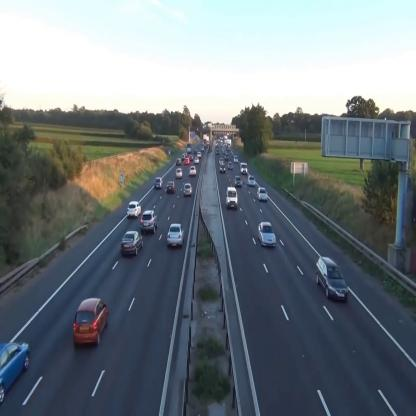car: (1, 341, 30, 405), (74, 297, 109, 347), (316, 256, 348, 303), (120, 230, 143, 256), (258, 221, 277, 249), (140, 210, 159, 234), (168, 223, 184, 249), (226, 186, 238, 210), (127, 201, 142, 218), (257, 186, 268, 202), (183, 183, 193, 197), (166, 181, 176, 193), (154, 178, 163, 190), (240, 162, 249, 174), (248, 174, 256, 187), (176, 168, 184, 180), (189, 166, 197, 177), (235, 175, 242, 187), (219, 163, 226, 173), (184, 156, 190, 165), (176, 157, 182, 165), (194, 157, 199, 164)
lorry: (186, 142, 192, 154)
